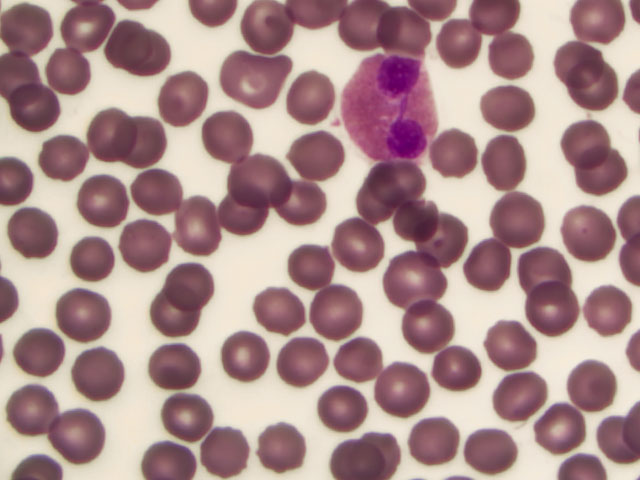RBC: (31, 130, 100, 184), (73, 172, 126, 222), (14, 204, 67, 254), (62, 226, 115, 276), (118, 222, 171, 272), (169, 202, 222, 252), (210, 198, 263, 248), (274, 184, 327, 234), (284, 240, 337, 290), (255, 287, 308, 337), (163, 255, 216, 305), (153, 282, 206, 332), (54, 291, 107, 341), (13, 325, 66, 375), (75, 349, 128, 399), (1, 381, 54, 431), (51, 409, 104, 459), (147, 430, 200, 480), (162, 386, 215, 436), (141, 343, 194, 393), (227, 329, 280, 379), (276, 338, 329, 388), (316, 287, 369, 337), (337, 224, 390, 274), (369, 153, 422, 203), (345, 179, 398, 229), (388, 185, 441, 235), (418, 212, 471, 262), (431, 131, 484, 181), (437, 20, 490, 70), (383, 11, 436, 61), (341, 7, 394, 57), (490, 33, 543, 83), (479, 83, 532, 133), (483, 139, 536, 189), (488, 196, 541, 246), (467, 235, 520, 285), (385, 256, 438, 306), (399, 305, 452, 355), (331, 338, 384, 388), (314, 381, 367, 431), (375, 367, 428, 417), (334, 430, 387, 480), (257, 422, 310, 472), (201, 425, 254, 475), (463, 430, 516, 480), (414, 418, 467, 468), (424, 342, 477, 392), (481, 320, 534, 370), (524, 289, 577, 339), (519, 247, 572, 297), (559, 204, 612, 254), (577, 139, 630, 189), (562, 118, 615, 168), (567, 58, 620, 108), (552, 34, 605, 84), (574, 2, 627, 52), (586, 283, 639, 333), (564, 358, 617, 408), (490, 373, 543, 423), (537, 405, 590, 455), (587, 415, 640, 465), (2, 4, 53, 54), (18, 86, 69, 136), (35, 44, 86, 94), (63, 3, 114, 53), (98, 18, 149, 68), (124, 27, 175, 77), (157, 75, 208, 125), (222, 56, 273, 106), (241, 5, 292, 55), (284, 70, 335, 120), (292, 128, 343, 178), (232, 157, 283, 207), (199, 110, 250, 160), (134, 164, 185, 214), (121, 113, 172, 163), (95, 112, 146, 162), (1, 49, 51, 99)
WBC: (343, 55, 441, 160)
